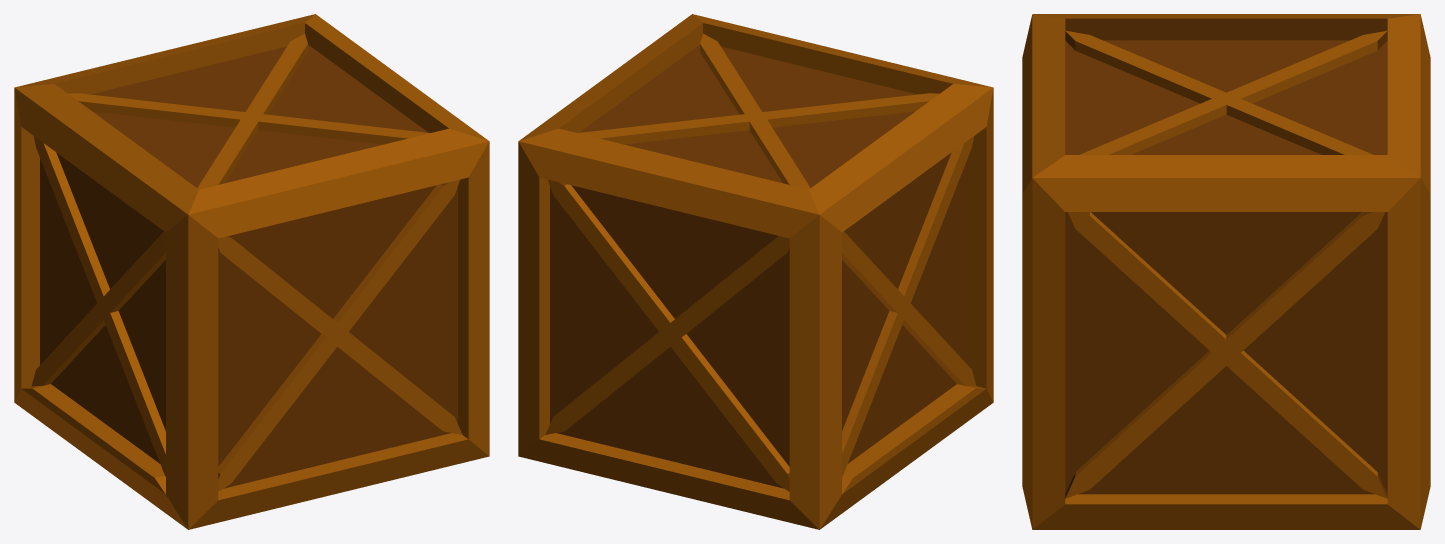
3 renders of one model, left to right at view 1: azimuth 30°, elevation 25°; view 2: azimuth 150°, elevation 25°; view 3: azimuth 270°, elevation 25°, orthographic. The views are drawn at different scales.
Visible parts, largest first — view 1: Cube; view 2: Cube; view 3: Cube.
Part boxes in pixels (left/top/right/bottom): Cube: left=14, top=14, right=489, bottom=529; Cube: left=518, top=14, right=993, bottom=529; Cube: left=1022, top=14, right=1430, bottom=529.
Bounding box in the file's own units: 200 × 200 × 200.
